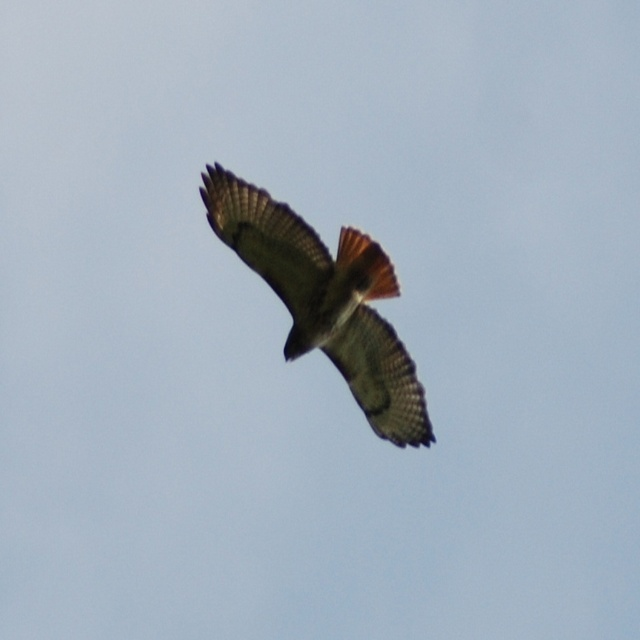Eagle: (197, 157, 438, 455)
